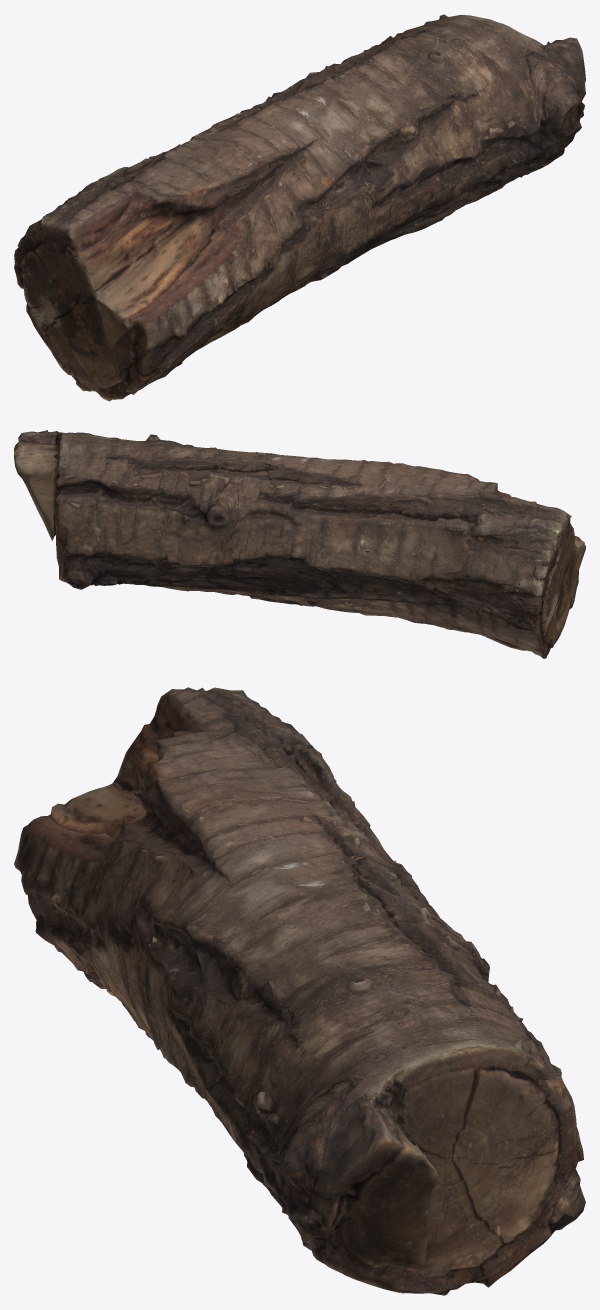
File: log.obj
3 renders of one model, top to bottom at view 1: azimuth 30°, elevation 25°; view 2: azimuth 150°, elevation 25°; view 3: azimuth 270°, elevation 25°, orthographic. The views are drawn at different scales.
Bounding box in the file's own units: 18.17 × 5.91 × 9.46.
1 material, 1 textured.
